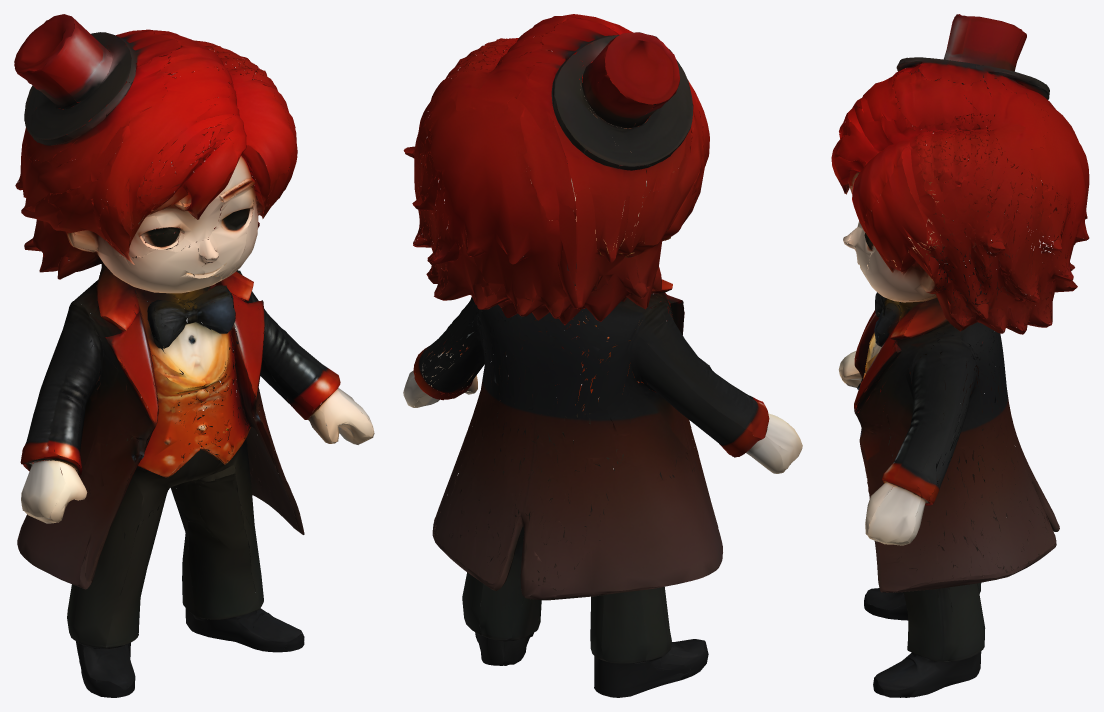
The model's file is hunyuan-vainman.glb.
3 renders of one model, left to right at view 1: azimuth 30°, elevation 25°; view 2: azimuth 150°, elevation 25°; view 3: azimuth 270°, elevation 25°, orthographic. The views are drawn at different scales.
Parts seen in each view (by area): view 1: node_0; view 2: node_0; view 3: node_0.
Part boxes in pixels (x1=…): node_0: x1=14, y1=14, x2=374, y2=697; node_0: x1=403, y1=14, x2=802, y2=697; node_0: x1=831, y1=14, x2=1089, y2=697.
Size of the model in its own units: 0.649 by 1.12 by 0.4359.
Materials: 1 (1 with a texture image).
